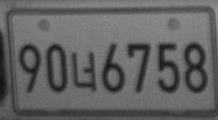0: (45, 43, 68, 92)
5: (157, 43, 180, 93)
6: (101, 43, 125, 93)
7: (127, 43, 150, 93)
8: (183, 42, 208, 93)
9: (18, 44, 41, 93)
너: (70, 51, 97, 92)
